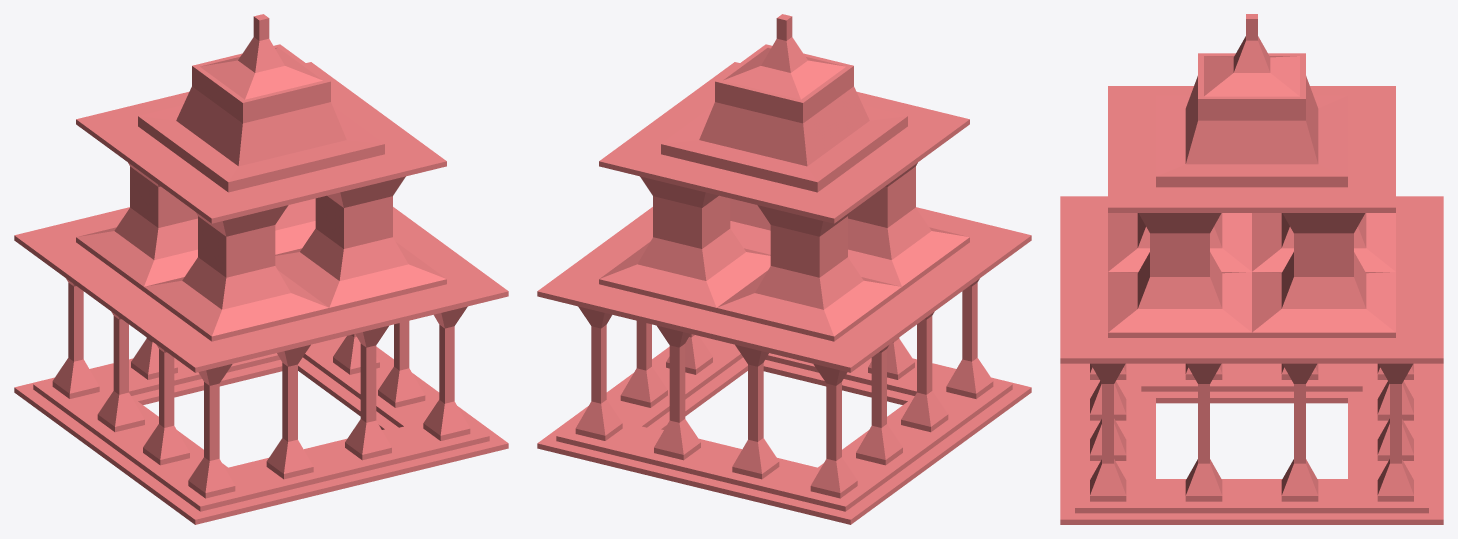
File: folly.glb
3 renders of one model, left to right at view 1: azimuth 30°, elevation 25°; view 2: azimuth 150°, elevation 25°; view 3: azimuth 270°, elevation 25°, orthographic. The views are drawn at different scales.
Visible parts, largest first — view 1: mass; view 2: mass; view 3: mass.
Boxes of the visible parts, x1,y1,x2,y2 form: mass: (14, 14, 508, 524); mass: (537, 14, 1031, 524); mass: (1060, 14, 1443, 524).
Size of what is drawn, in the model's own units: 48 by 59 by 48.
